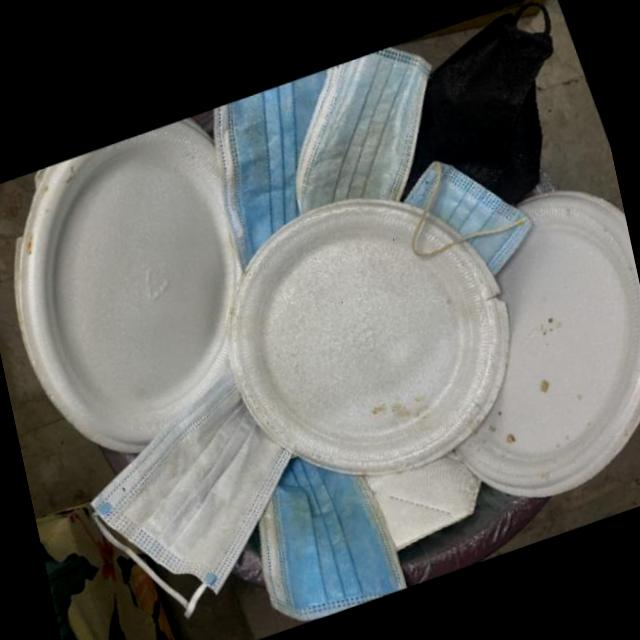khau_trang: (88, 361, 290, 607), (397, 0, 550, 202), (255, 455, 406, 621), (292, 44, 429, 214), (211, 66, 325, 264), (398, 159, 530, 274), (360, 451, 482, 549)
xop: (227, 197, 508, 476), (11, 117, 241, 457), (449, 186, 640, 500)
